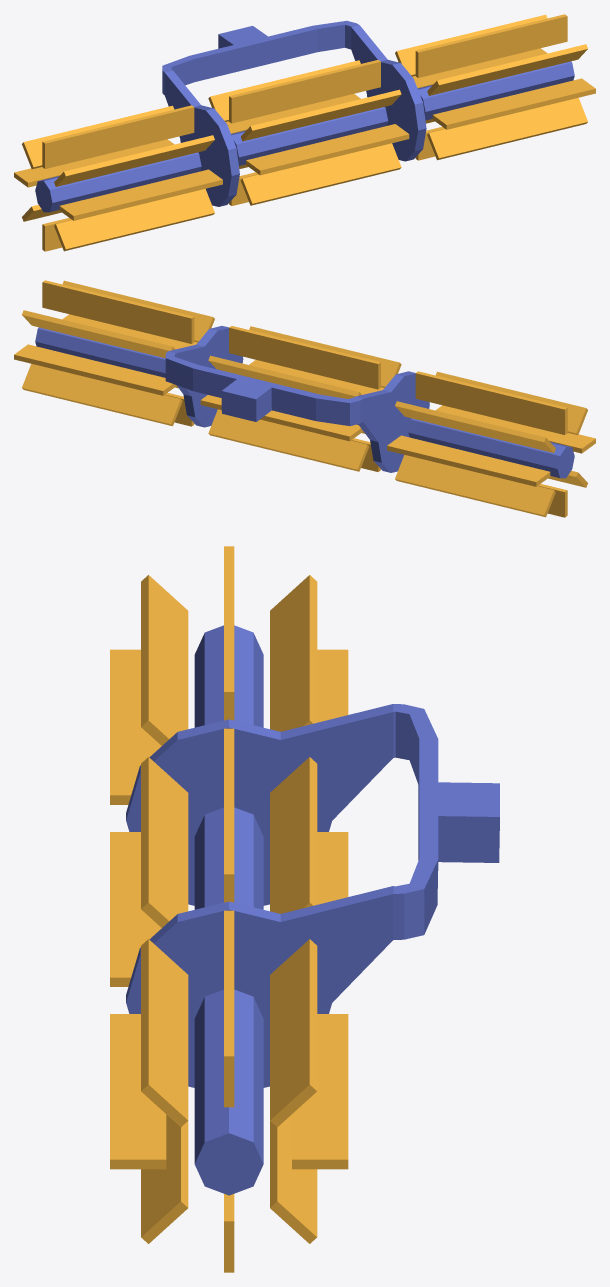
Rendered from tractor_parts.glb.
The picture shows the model from 3 angles, top to bottom: view 1: azimuth 30°, elevation 25°; view 2: azimuth 150°, elevation 25°; view 3: azimuth 270°, elevation 25°; orthographic projection. The views are drawn at different scales.
Parts seen in each view (by area): view 1: Thresher.002, Spinner, Thresher.003, Cylinder, Cylinder.001; view 2: Thresher.002, Spinner, Thresher.003, Cylinder.001, Cylinder; view 3: Spinner, Thresher.002, Thresher.003, Cylinder, Cylinder.001.
Part boxes in pixels (left/top/right/bottom): Thresher.002: left=14, top=105, right=222, bottom=251; Spinner: left=395, top=14, right=595, bottom=160; Thresher.003: left=208, top=60, right=409, bottom=205; Cylinder: left=235, top=20, right=426, bottom=161; Cylinder.001: left=162, top=30, right=255, bottom=206; Thresher.002: left=387, top=371, right=595, bottom=517; Spinner: left=14, top=280, right=214, bottom=426; Thresher.003: left=200, top=326, right=401, bottom=471; Cylinder.001: left=238, top=371, right=429, bottom=472; Cylinder: left=165, top=326, right=258, bottom=427; Spinner: left=110, top=910, right=348, bottom=1272; Thresher.002: left=110, top=546, right=348, bottom=804; Thresher.003: left=110, top=728, right=348, bottom=986; Cylinder: left=126, top=798, right=499, bottom=1087; Cylinder.001: left=126, top=704, right=499, bottom=905.
Size of the model in its own units: 3.5 by 0.6952 by 1.13.
